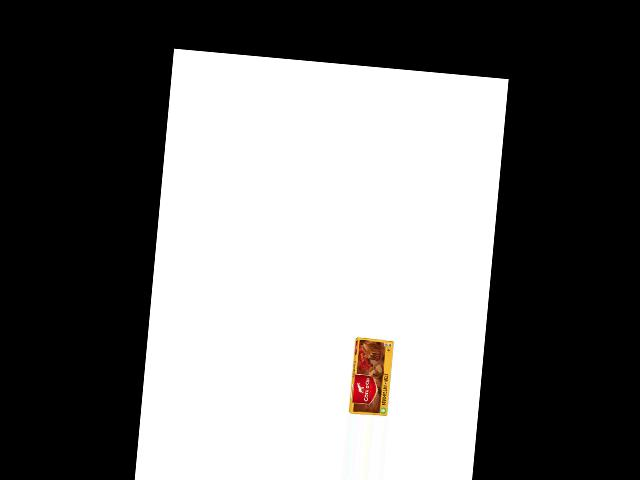chocolate: (346, 335, 400, 417)
